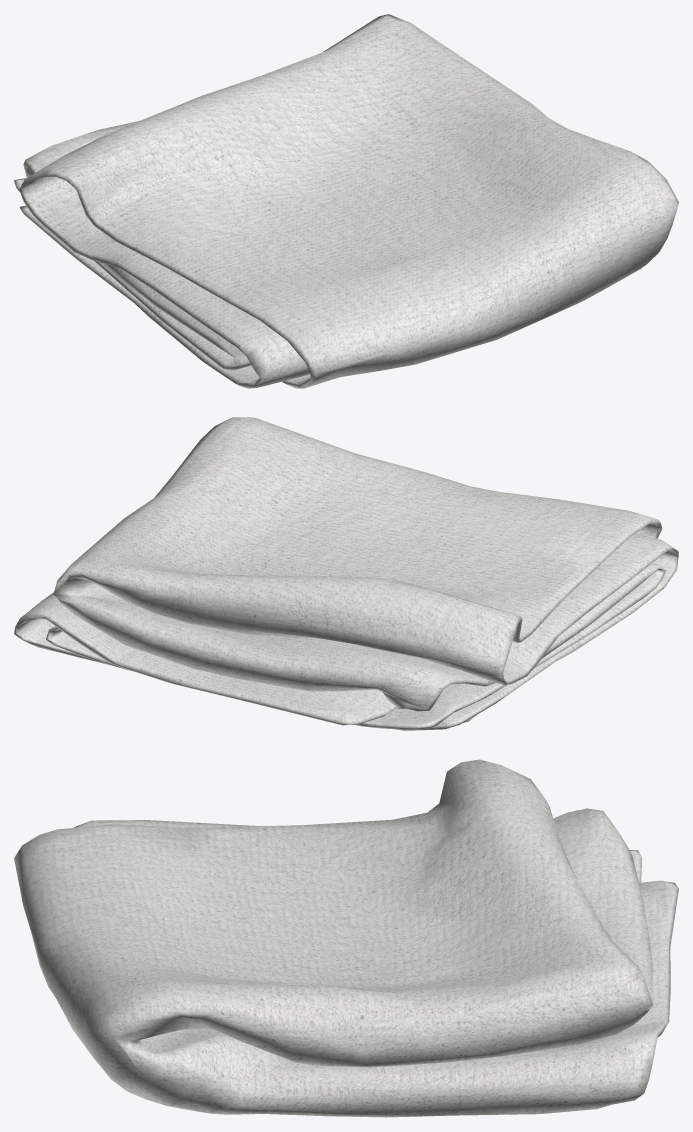
Rendered from Towel.FBX.
The picture shows the model from 3 angles, top to bottom: view 1: azimuth 30°, elevation 25°; view 2: azimuth 150°, elevation 25°; view 3: azimuth 270°, elevation 25°; orthographic projection. The views are drawn at different scales.
Visible parts, largest first — view 1: towel; view 2: towel; view 3: towel.
Part boxes in pixels (left/top/right/bottom): towel: left=14, top=14, right=678, bottom=388; towel: left=14, top=417, right=678, bottom=730; towel: left=14, top=759, right=678, bottom=1117.
Bounding box in the file's own units: 26.58 × 6.4 × 28.28.
